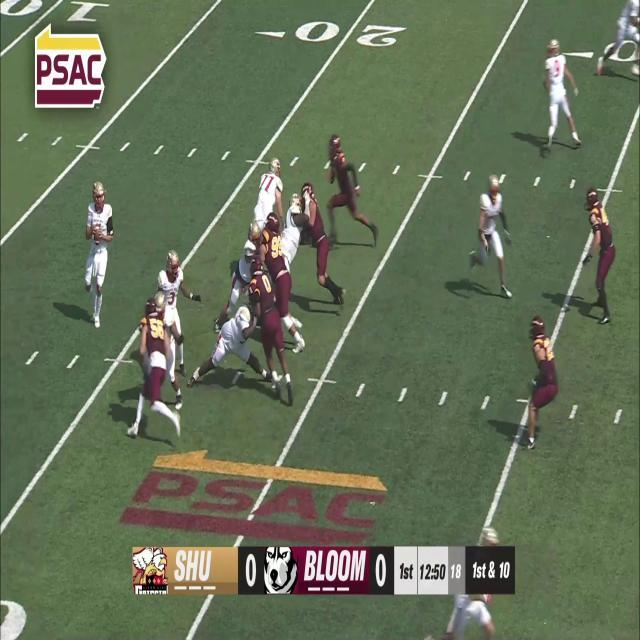football: (93, 223, 102, 246)
